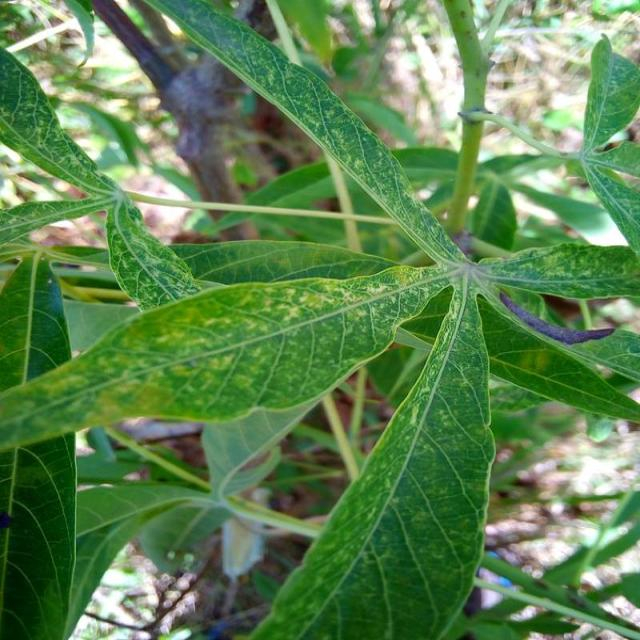cassava leaf: (1, 0, 638, 638), (246, 275, 496, 638), (0, 251, 78, 638)
